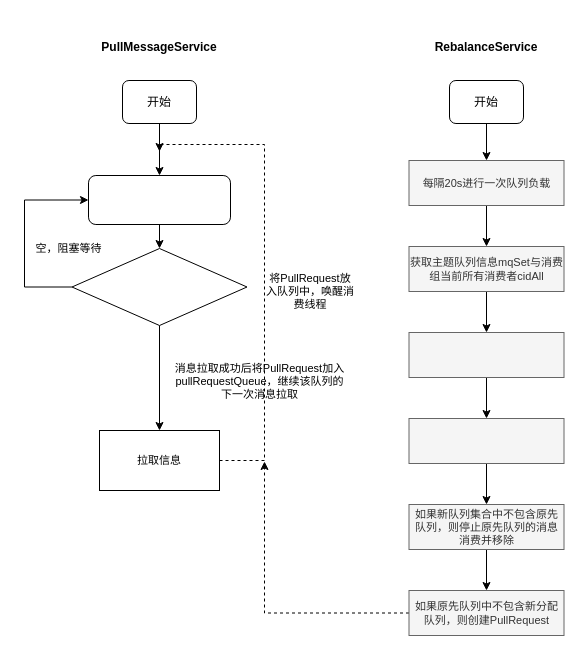
Image size: 582x653. Some labels were removed from this diagram. The shapes that lost their labels are listed below. From the top down, each one's box as (x1, y1, x2, y2) in pixels, then its label:
(88, 174, 230, 224): pullRequestQueue.take()
(71, 248, 247, 326): pullRequestQueue 是否为空？
(408, 332, 564, 378): 计算当前消费者分配到的消息队列集合
(408, 418, 564, 464): 对比原先的负载队列与此处分配队列
